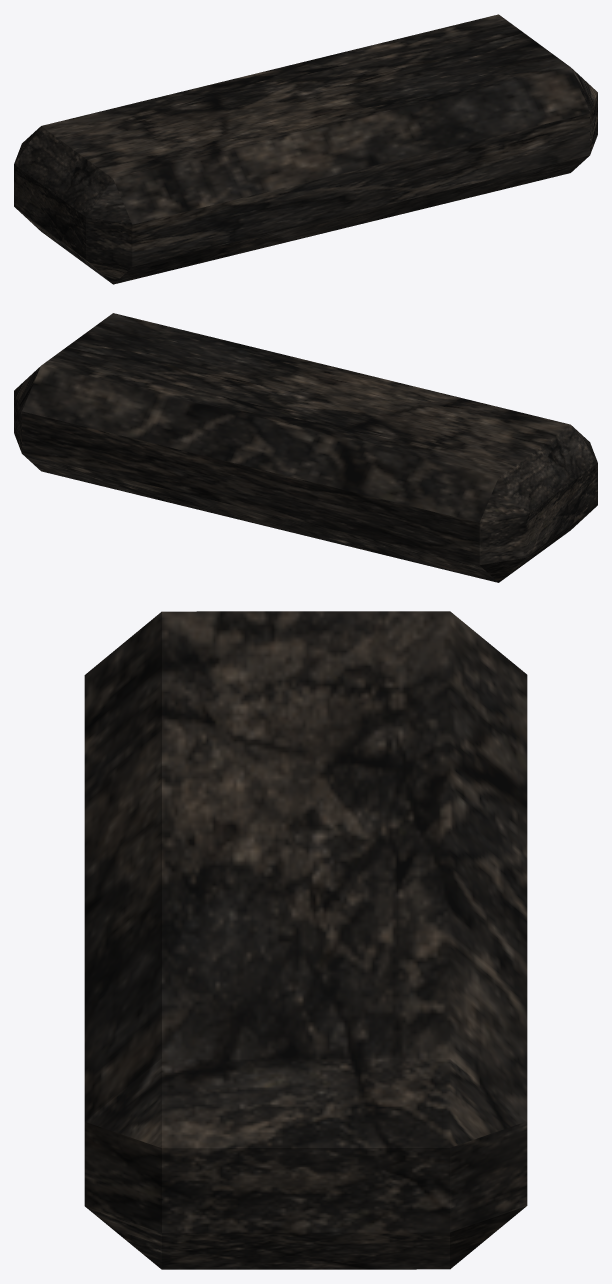
The model's file is LoveDeath_RockStep_Art.fbx.
3 views of the same model, one above another, from view 1: azimuth 30°, elevation 25°; view 2: azimuth 150°, elevation 25°; view 3: azimuth 270°, elevation 25° (orthographic). The views are drawn at different scales.
Parts seen in each view (by area): view 1: LoveDeath_Step_Art; view 2: LoveDeath_Step_Art; view 3: LoveDeath_Step_Art.
Boxes of the visible parts, x1,y1,x2,y2 form: LoveDeath_Step_Art: (14,14,597,284); LoveDeath_Step_Art: (14,313,597,582); LoveDeath_Step_Art: (84,611,527,1269).
Size of the model in its own units: 125 by 24.71 by 46.74.
